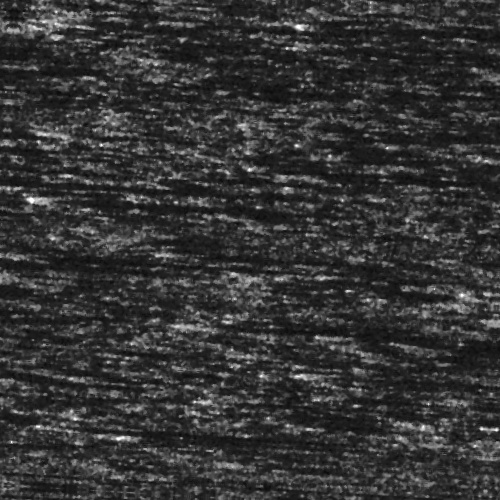object: (213, 361, 410, 378), (54, 238, 169, 251), (114, 250, 249, 261), (15, 202, 78, 217), (465, 52, 500, 65), (264, 169, 337, 174), (0, 264, 45, 271)
shadow: (47, 202, 349, 217), (312, 361, 500, 378), (182, 250, 414, 261), (111, 238, 265, 251), (13, 264, 237, 271), (0, 191, 210, 198), (301, 169, 381, 174), (0, 343, 75, 348)
